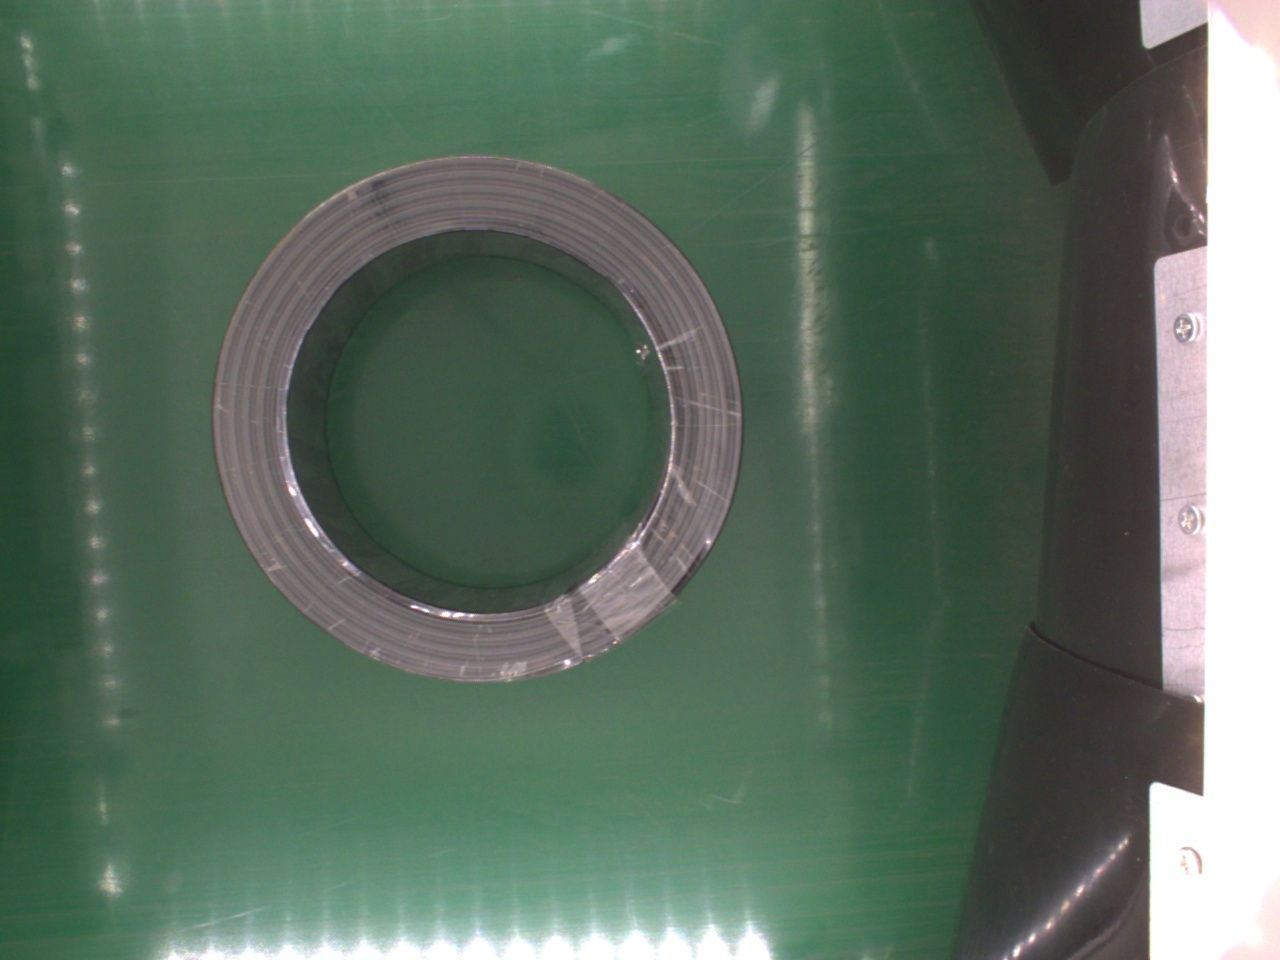black: (212, 153, 741, 683)
